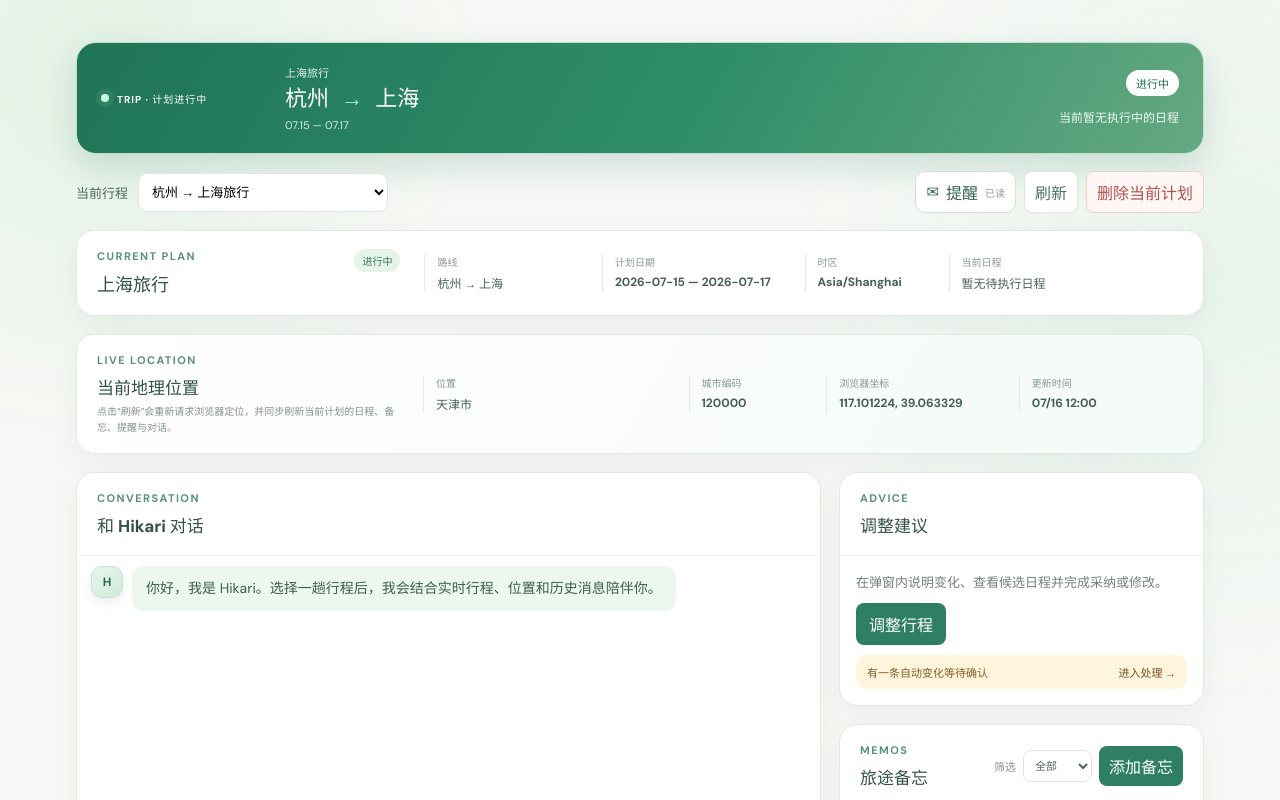
Test: Companion adjustment dialog › keeps an unresolved replan actionable in the inbox after it is read
Click the button with class "notification-inbox-trigger": (966,192) [915,171,1016,213]
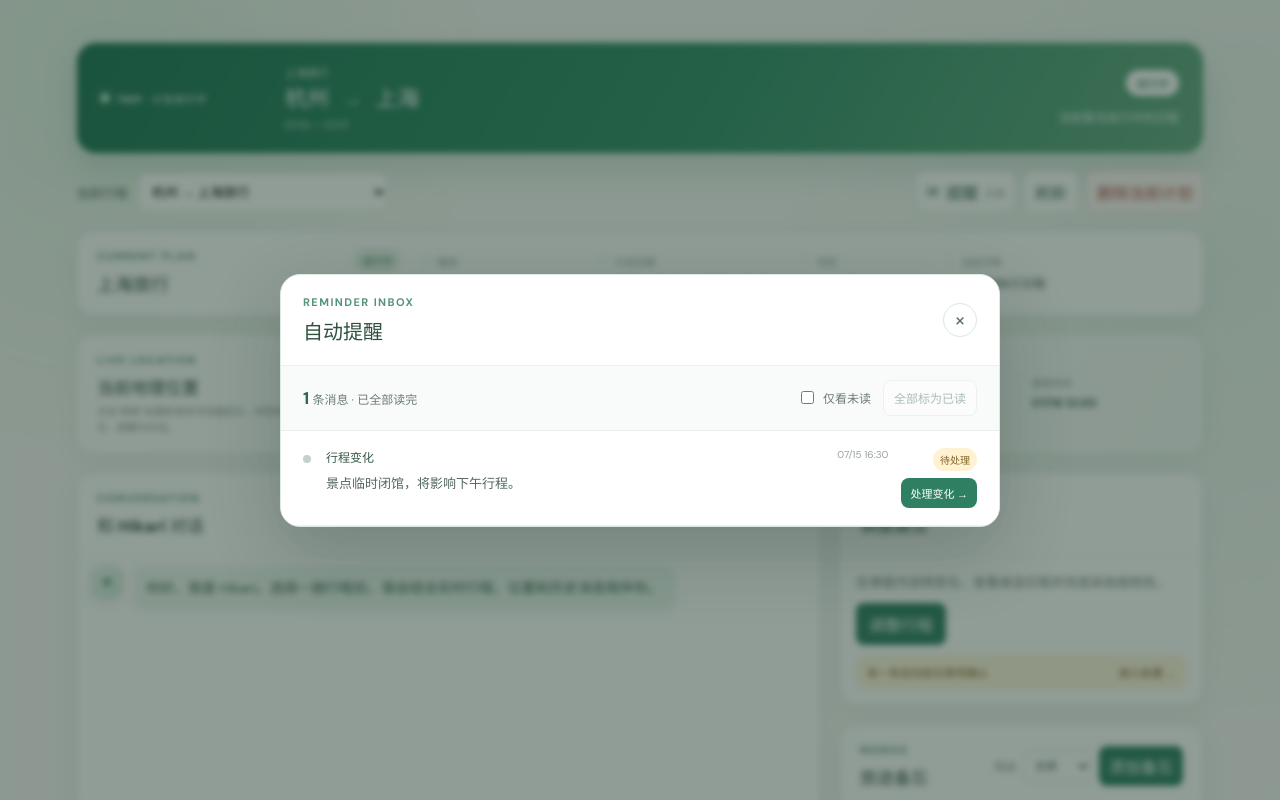
Now the button with class "mail-advice-action" shows "处理变化"
Now the text "待处理" is shown, box [933,448,977,470]
Click the button with class "mail-advice-action": (939,492) [901,478,977,508]
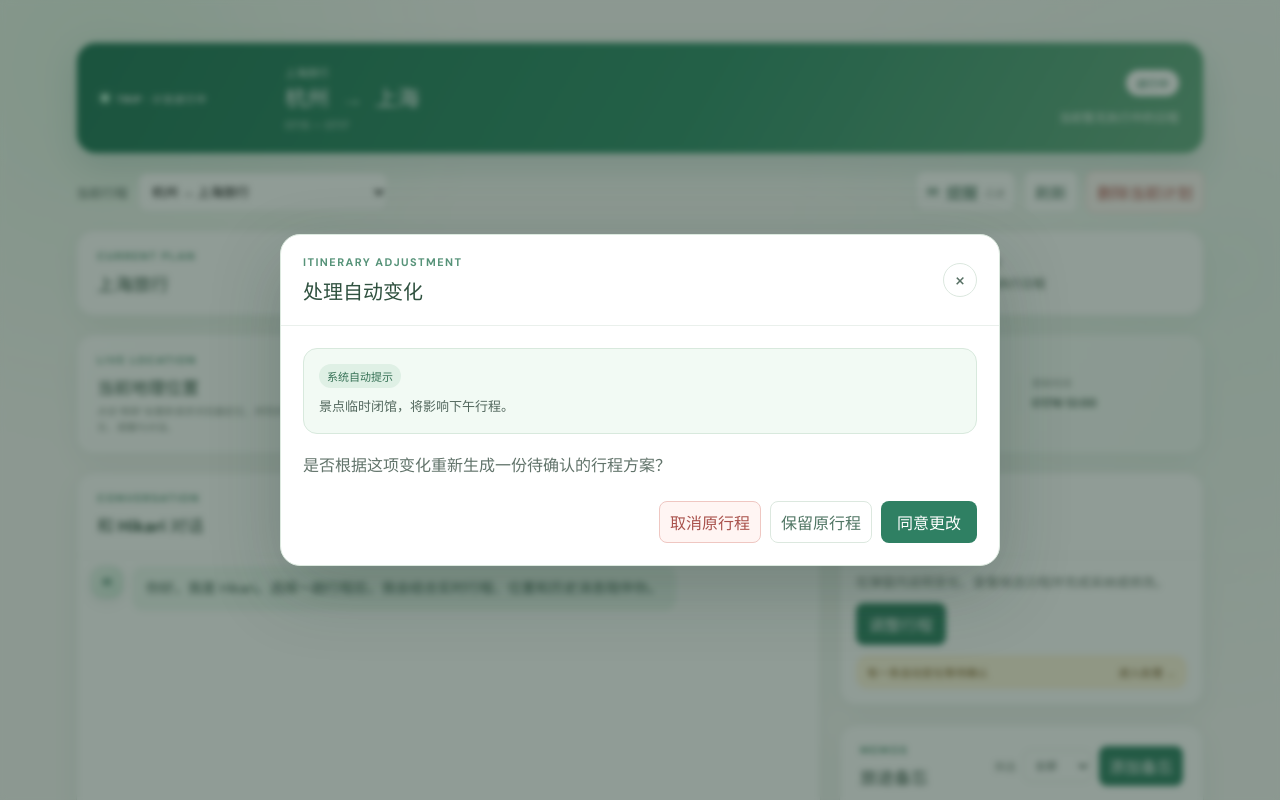
Now the text "处理自动变化" is shown, box [303,279,423,305]
